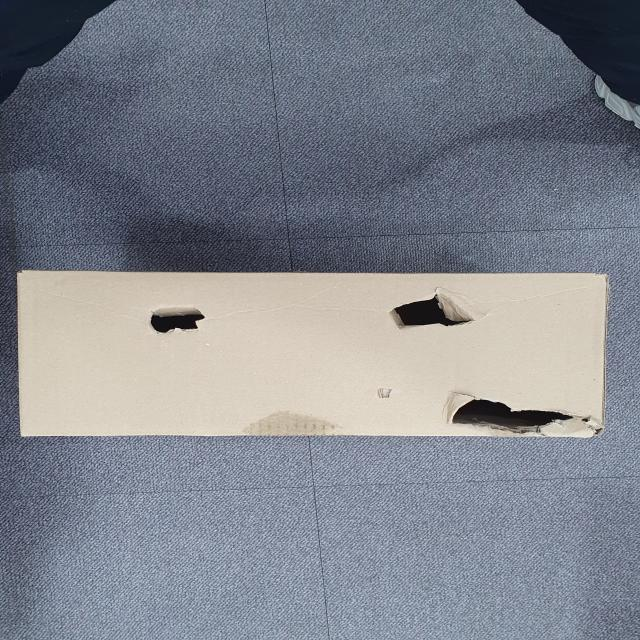hole: (438, 392, 596, 438), (382, 290, 487, 330), (139, 307, 214, 336)
wet: (237, 408, 346, 436)
